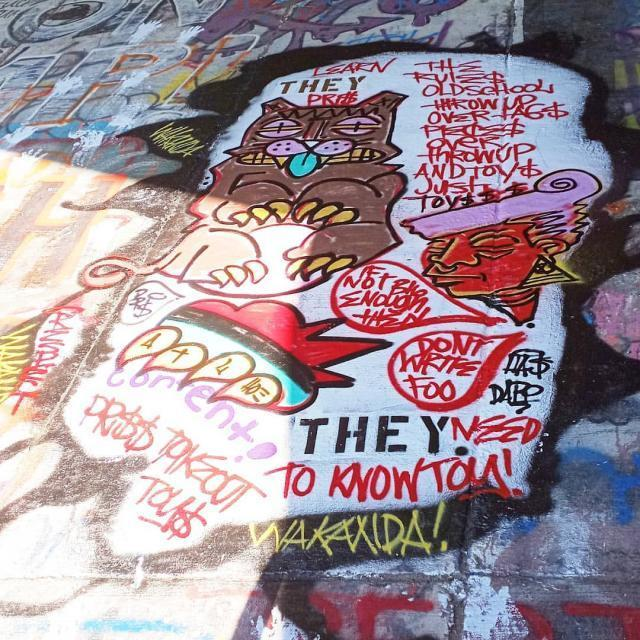-: (86, 96, 414, 290), (118, 298, 394, 412), (90, 393, 261, 548), (414, 174, 602, 310), (411, 58, 564, 204), (398, 332, 552, 416), (278, 450, 522, 499), (252, 512, 452, 559)
